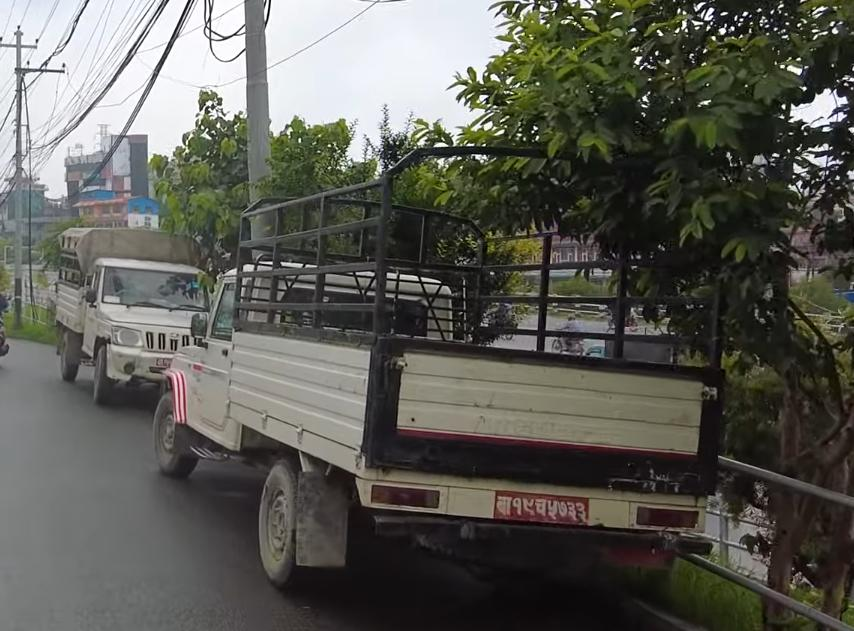transport_vehicle: (145, 140, 749, 608), (52, 224, 220, 413)
